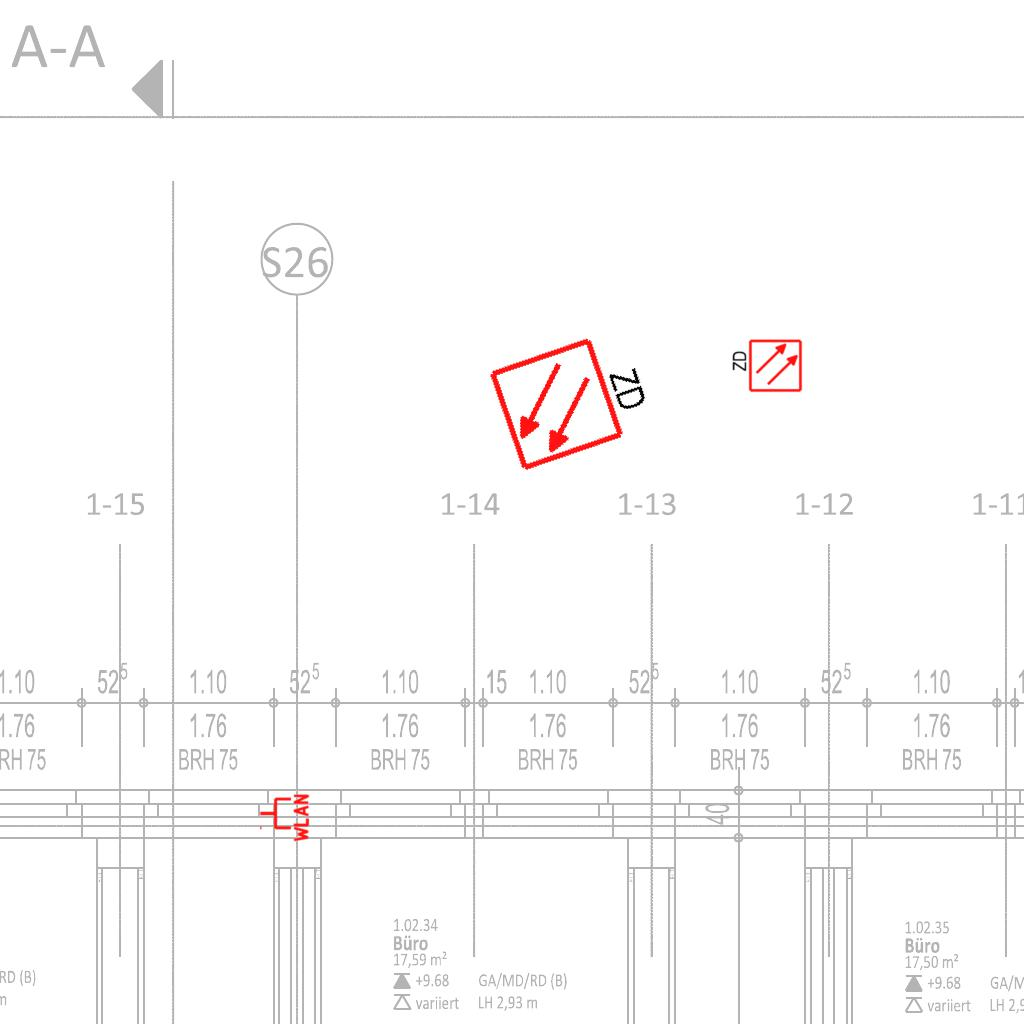WLAN: (258, 792, 310, 844)
ZD_Melder_in_Zwischendecke_mit_Revisionsoeffnung_mind_40_x_40_cm: (485, 318, 663, 475), (729, 338, 803, 395)
